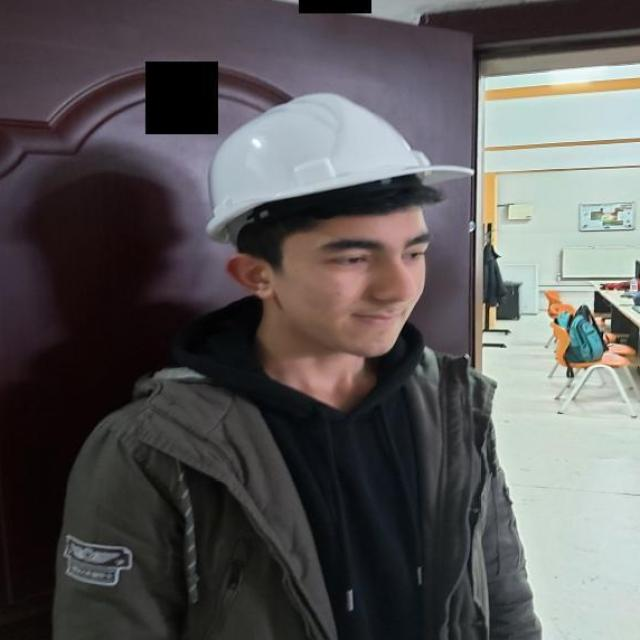helmet: (205, 91, 474, 244)
